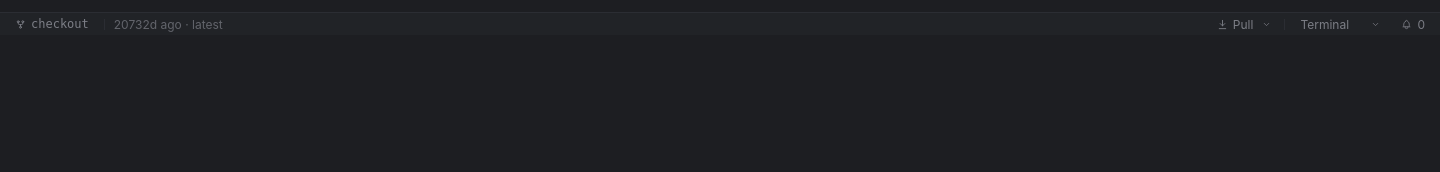
Test: keeps the labelled Pull action and separate submodule menu without duplicating dirty indicators
Click the button "Pull" at (1235, 24), box [1211, 16, 1258, 32]
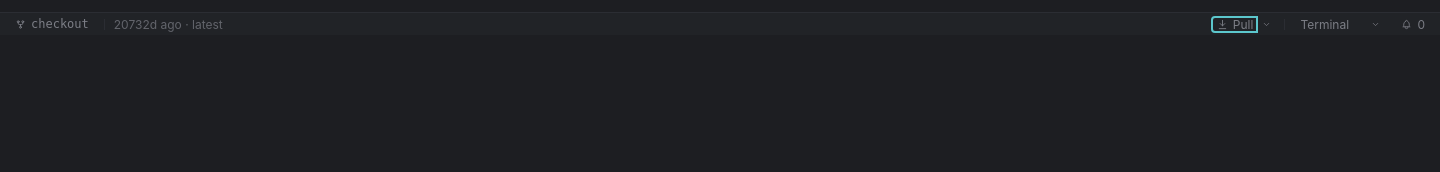
Click the button named "Pull individual submodules" at (1267, 24), box [1258, 16, 1275, 32]
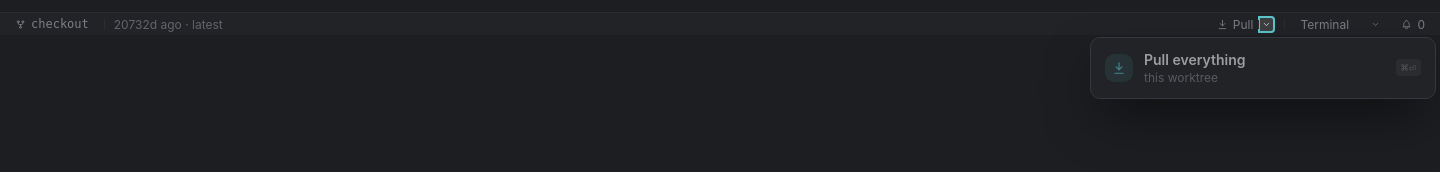
Check: the text "Pull everything" is shown, box [1144, 50, 1246, 68]
